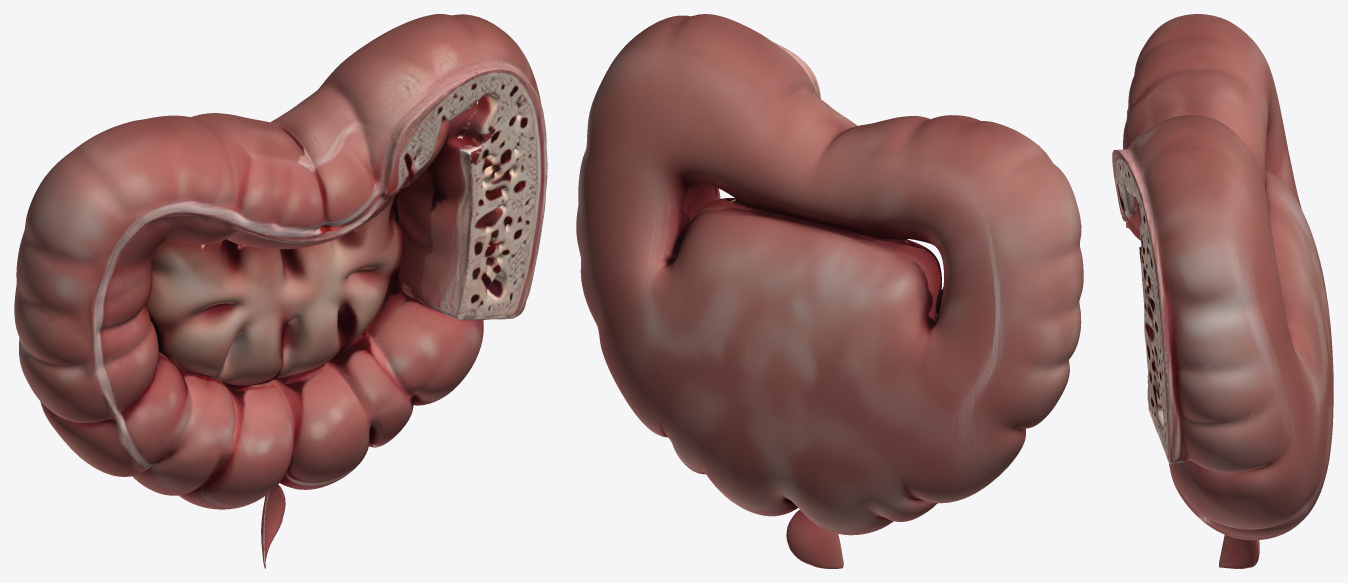
The model's file is vet_v2_organ_dog_intestines.glb.
The picture shows the model from 3 angles, left to right: view 1: azimuth 30°, elevation 25°; view 2: azimuth 150°, elevation 25°; view 3: azimuth 270°, elevation 25°; orthographic projection. The views are drawn at different scales.
Parts seen in each view (by area): view 1: model; view 2: model; view 3: model.
Boxes of the visible parts, x1,y1,x2,y2 form: model: (14,14,547,568); model: (576,14,1083,568); model: (1112,14,1333,568).
Size of the model in its own units: 1.9 by 1.85 by 0.7194.
1 material, 1 textured.
